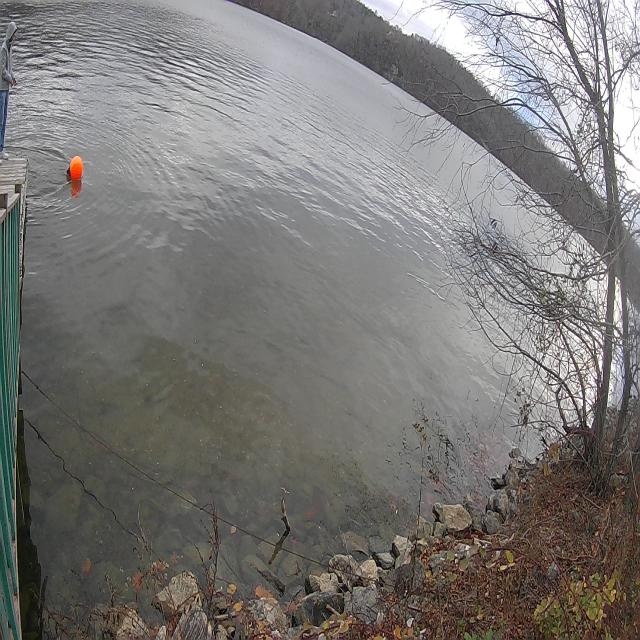Buoy: (64, 150, 86, 188)
